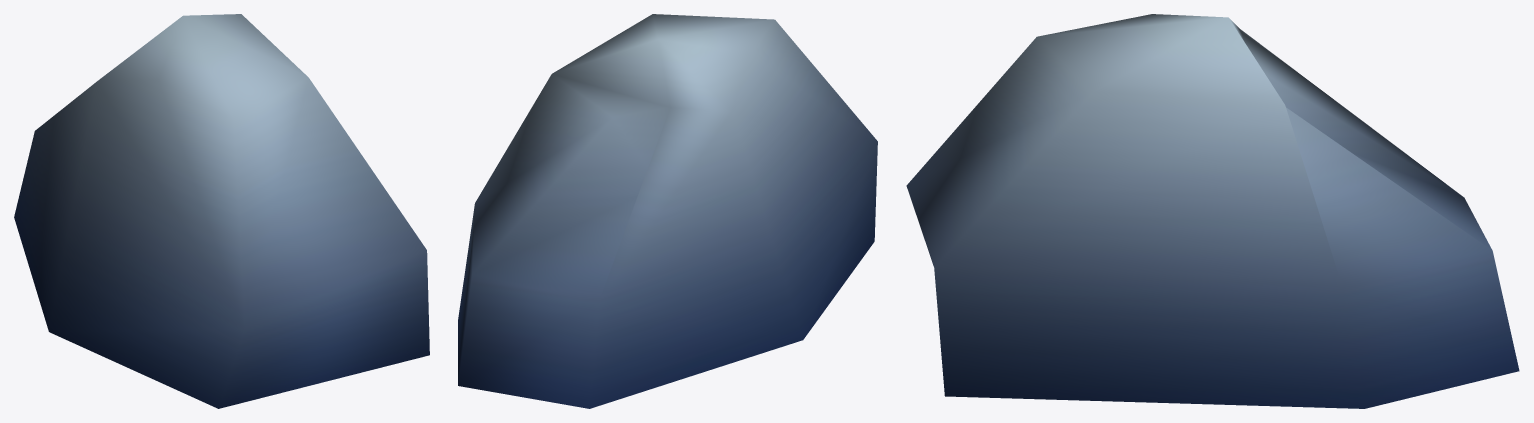
File: boulder3.fbx
3 renders of one model, left to right at view 1: azimuth 30°, elevation 25°; view 2: azimuth 150°, elevation 25°; view 3: azimuth 270°, elevation 25°, orthographic. The views are drawn at different scales.
Visible parts, largest first — view 1: boulder3; view 2: boulder3; view 3: boulder3.
Boxes of the visible parts, x1,y1,x2,y2 form: boulder3: [14, 14, 429, 408]; boulder3: [458, 14, 877, 408]; boulder3: [906, 14, 1519, 408].
Size of the model in its own units: 0.00693 by 0.00645 by 0.0115.
Materials: 1 (1 with a texture image).
